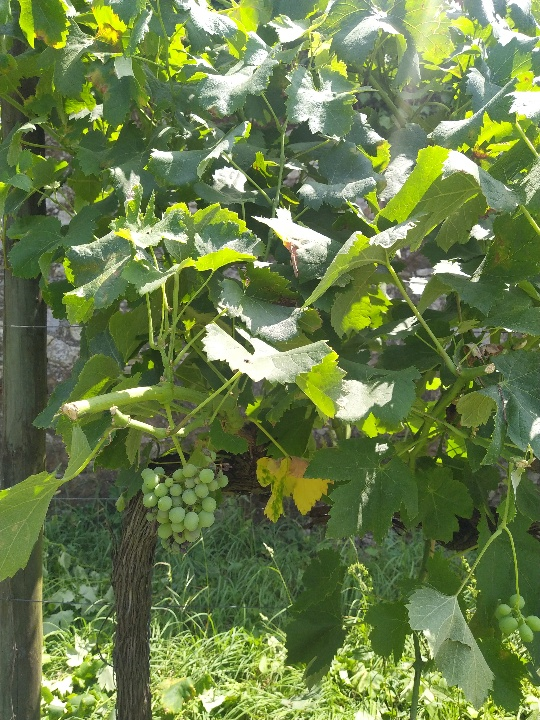grape: (139, 462, 231, 557)
